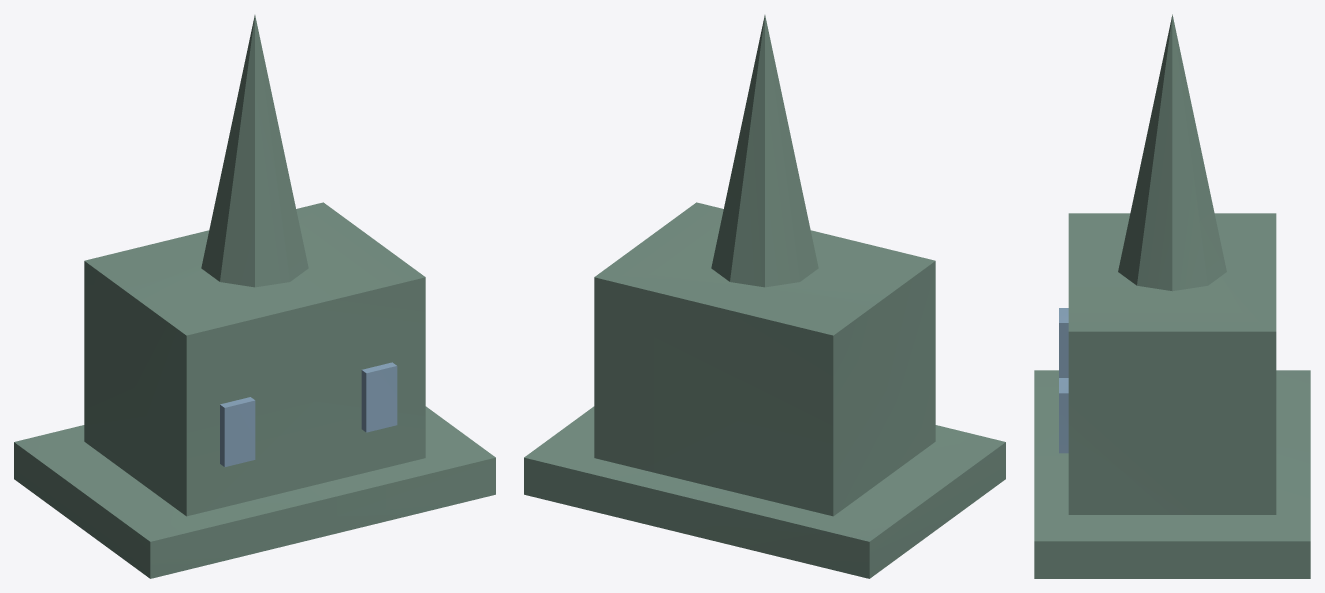
Rendered from monument-06.glb.
The picture shows the model from 3 angles, left to right: view 1: azimuth 30°, elevation 25°; view 2: azimuth 150°, elevation 25°; view 3: azimuth 270°, elevation 25°; orthographic projection.
Visible parts, largest first — view 1: world; view 2: world; view 3: world.
Part boxes in pixels (x1,y1,x2,y2): world: [14, 15, 495, 578]; world: [524, 15, 1005, 578]; world: [1034, 14, 1310, 578].
Bounding box in the file's own units: 1.46 × 1.91 × 1.
